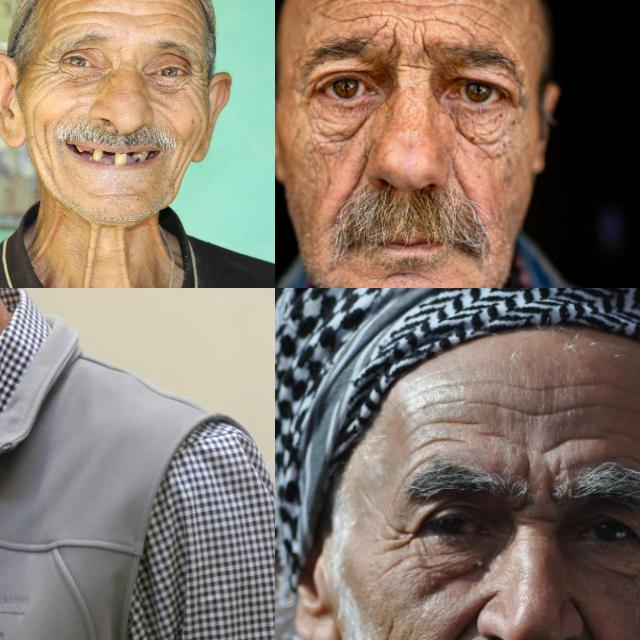chin: (380, 269, 438, 287), (97, 188, 139, 202)
crows_feet: (382, 516, 416, 558), (34, 53, 62, 85), (188, 61, 208, 97)
forehead: (506, 388, 590, 426), (413, 395, 467, 451), (441, 0, 507, 31), (538, 427, 600, 458), (315, 0, 382, 28), (68, 4, 105, 26), (112, 5, 152, 25), (166, 8, 196, 34), (395, 0, 431, 20)
frown_line: (391, 26, 432, 66), (518, 452, 536, 484)
gummy_smile: (419, 608, 474, 640), (572, 603, 618, 640), (350, 151, 370, 199), (450, 162, 470, 198)
masseter: (173, 131, 190, 185), (26, 106, 44, 148), (41, 122, 59, 162)
